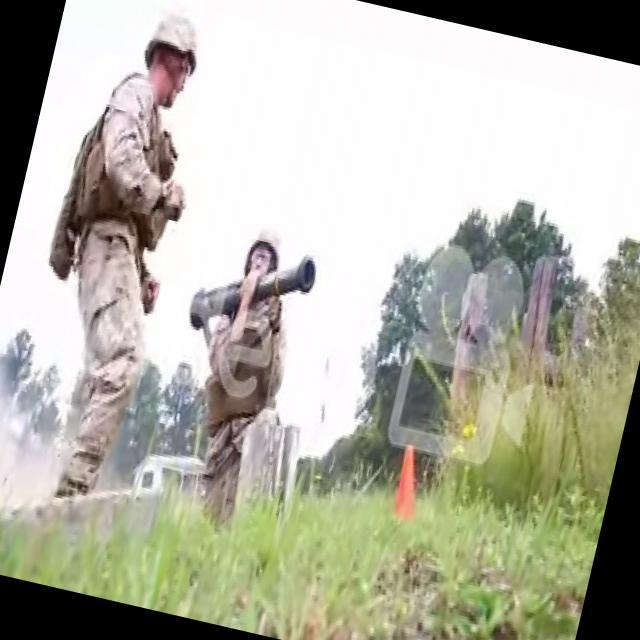rocket: (191, 233, 319, 349)
